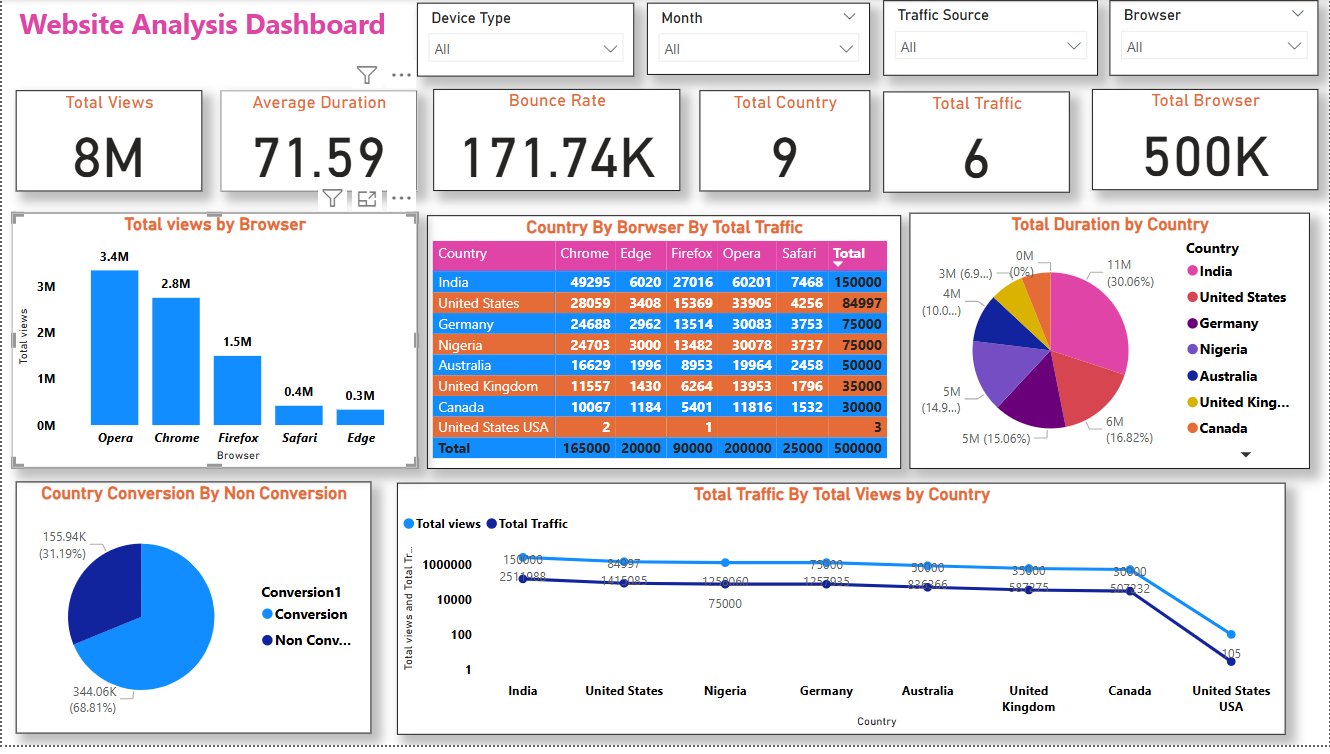

The dashboard page shown, as its layout file describes it:
{"tool":"powerbi","page":{"name":"Page 1","canvas":[1280,720],"ordinal":0},"visuals":[{"type":"textbox","box":[0,0,387,87.8],"z":0},{"type":"slicer","fields":{"Values":["Table1.Device Type"]},"box":[400.7,4.1,209.9,71.4],"z":1000},{"type":"slicer","fields":{"Values":["Table1.Month"]},"box":[623,4.1,215.4,70],"z":2000},{"type":"slicer","fields":{"Values":["Table1.Traffic Source"]},"box":[850.8,1.4,207.2,72.7],"z":3000},{"type":"slicer","fields":{"Values":["Table1.Browser"]},"box":[1069,1.4,201.7,72.7],"z":4000},{"type":"card","title":"Total Views","fields":{"Values":["Measure.Total views"]},"box":[13.7,87.8,179.8,97.4],"z":5000},{"type":"card","title":"Average Duration","fields":{"Values":["Measure.Average Duration"]},"box":[211.3,87.8,189.4,97.4],"z":6000},{"type":"card","title":"Bounce Rate","fields":{"Values":["Sum(Table1.Bounce Rate (%))"]},"box":[415.8,86.4,238.8,98.8],"z":7000},{"type":"card","title":"Total Country","fields":{"Values":["Measure.Total country"]},"box":[673.8,87.8,164.7,97.4],"z":8000},{"type":"card","title":"Total Browser","fields":{"Values":["Measure.Total Traffic"]},"box":[1052.5,86.4,218.2,97.4],"z":9000},{"type":"card","title":"Total Traffic","fields":{"Values":["Measure.Total Browser"]},"box":[850.8,89.2,179.8,97.4],"z":10000},{"type":"columnChart","fields":{"Category":["Table1.Browser"],"Y":["Measure.Total views"]},"box":[9.7,206.3,390.9,246.1],"z":11000},{"type":"pivotTable","title":"Country By Borwser By Total Traffic","fields":{"Rows":["Table1.Country"],"Columns":["Table1.Browser"],"Values":["Measure.Total Traffic"]},"box":[410.2,208.7,457.2,244.9],"z":12000},{"type":"pieChart","title":"Total Duration by Country","fields":{"Y":["Sum(Table1.Session Duration (sec))"],"Category":["Table1.Country"]},"box":[875.9,206.3,386.1,247.3],"z":13000},{"type":"pieChart","title":"Country Conversion By Non Conversion ","fields":{"Category":["Table1.Conversion1"],"Y":["CountNonNull(Table1.Conversion1)"]},"box":[13.7,465.2,343.1,242.9],"z":14000},{"type":"lineChart","title":"Total Traffic By Total Views by Country","fields":{"Category":["Table1.Country"],"Y":["Measure.Total views","Measure.Total Traffic"]},"box":[381.5,466.6,857.6,242.9],"z":14001}]}

Visuals, with their boxes in screenshot pixels (x1, y1, x2, y2), scaled from the page's 1280x720 canvas onto the 1330x754 screenshot:
textbox: bbox(0, 0, 402, 92)
slicer - Table1.Device Type: bbox(416, 4, 634, 79)
slicer - Table1.Month: bbox(647, 4, 871, 78)
slicer - Table1.Traffic Source: bbox(884, 1, 1099, 78)
slicer - Table1.Browser: bbox(1111, 1, 1320, 78)
"Total Views" card: bbox(14, 92, 201, 194)
"Average Duration" card: bbox(220, 92, 416, 194)
"Bounce Rate" card: bbox(432, 90, 680, 194)
"Total Country" card: bbox(700, 92, 871, 194)
"Total Browser" card: bbox(1094, 90, 1320, 192)
"Total Traffic" card: bbox(884, 93, 1071, 195)
columnChart - Table1.Browser x Measure.Total views: bbox(10, 216, 416, 474)
"Country By Borwser By Total Traffic" pivotTable: bbox(426, 219, 901, 475)
"Total Duration by Country" pieChart: bbox(910, 216, 1311, 475)
"Country Conversion By Non Conversion " pieChart: bbox(14, 487, 371, 742)
"Total Traffic By Total Views by Country" lineChart: bbox(396, 489, 1288, 743)
